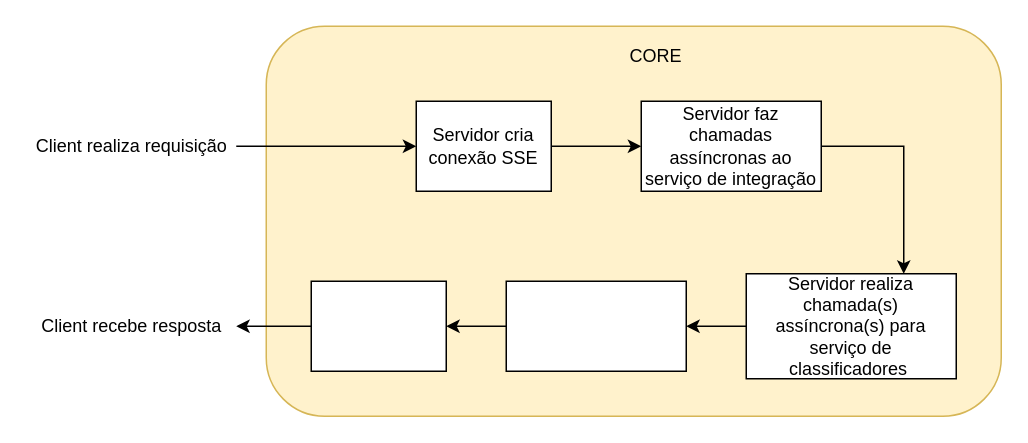
Image size: 1028x443. Some labels were removed from this diagram. Each missing label, with the centre of its shape:
Servidor envia evento ao cliente e fecha conexão: point (378, 325)
Servidor salva os dados de maneira assíncrona no elasticsearch: point (595, 325)
